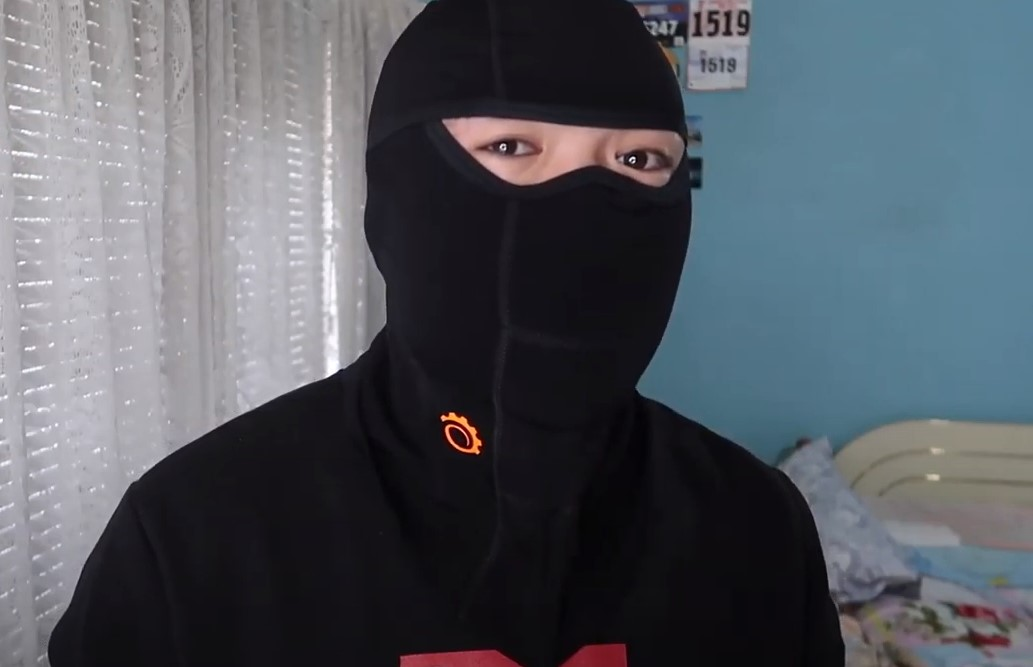face_with_mask: (397, 42, 688, 389)
